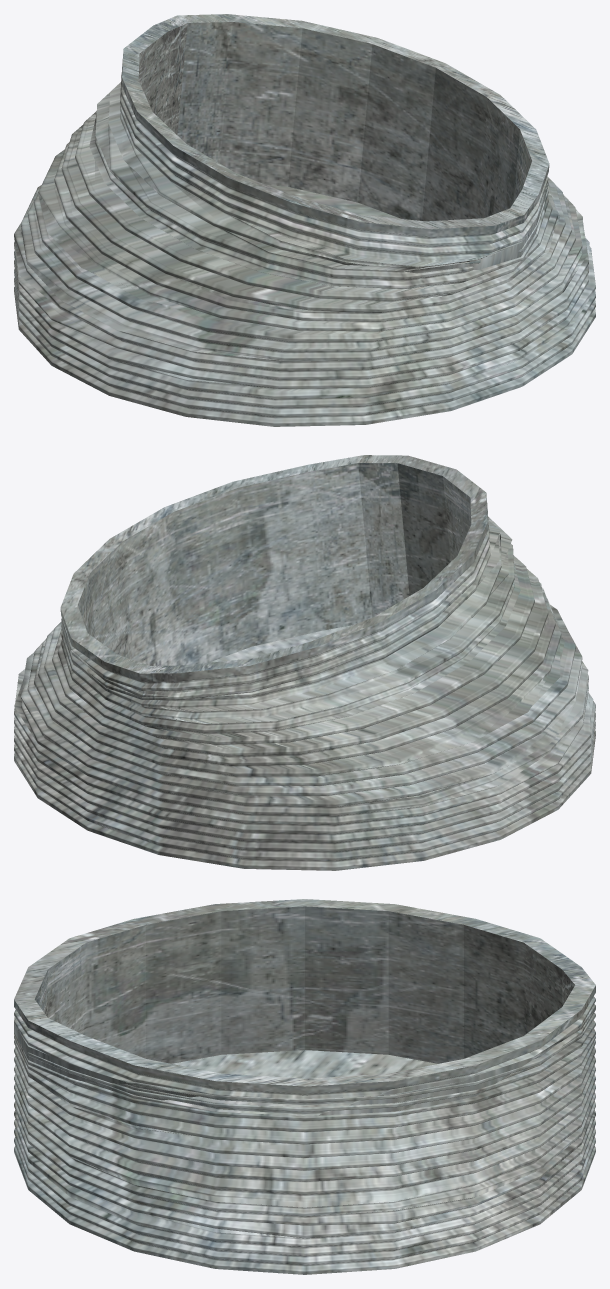
File: Trash_Tin_Crushed.fbx
3 views of the same model, one above another, from view 1: azimuth 30°, elevation 25°; view 2: azimuth 150°, elevation 25°; view 3: azimuth 270°, elevation 25° (orthographic).
Parts seen in each view (by area): view 1: pCylinder4; view 2: pCylinder4; view 3: pCylinder4.
Part boxes in pixels (x1,y1,x2,y2): pCylinder4: [14, 14, 595, 426]; pCylinder4: [14, 455, 595, 870]; pCylinder4: [14, 899, 595, 1274].
Bounding box in the file's own units: 10.82 × 3.88 × 10.82.
1 material, 1 textured.
